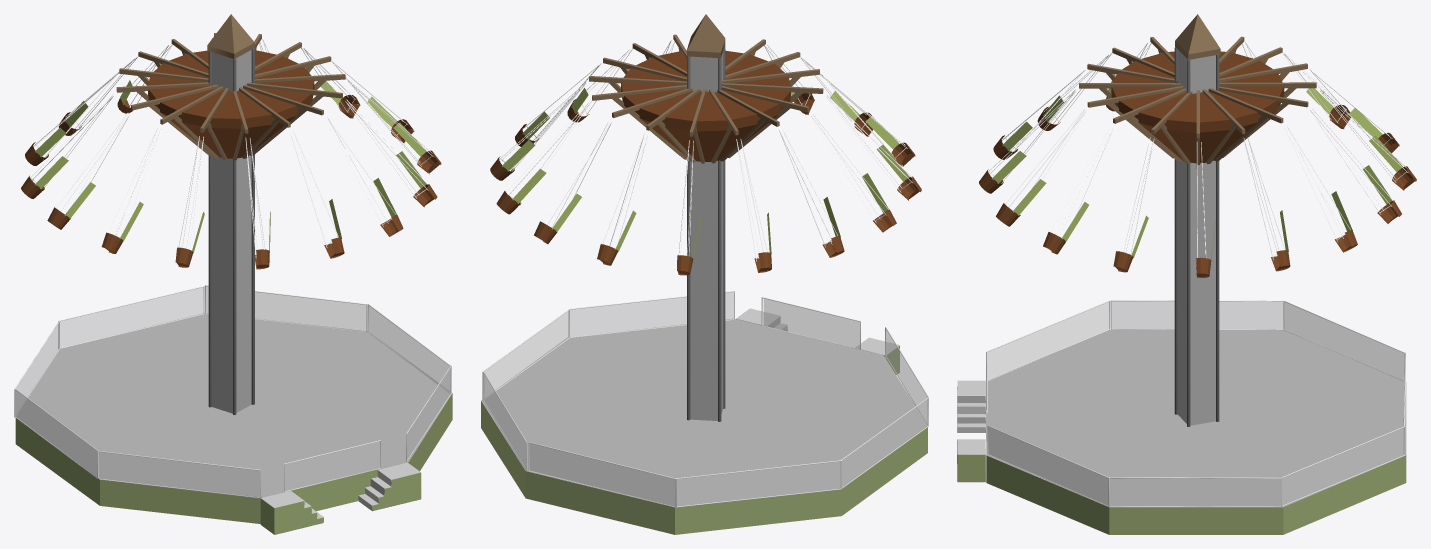
The model's file is chain.glb.
3 renders of one model, left to right at view 1: azimuth 30°, elevation 25°; view 2: azimuth 150°, elevation 25°; view 3: azimuth 270°, elevation 25°, orthographic. The views are drawn at different scales.
Visible parts, largest first — view 1: ASSEMBLY_STATIC, ASSEMBLY_ROTATING_CANOPY; view 2: ASSEMBLY_STATIC, ASSEMBLY_ROTATING_CANOPY; view 3: ASSEMBLY_STATIC, ASSEMBLY_ROTATING_CANOPY.
Part boxes in pixels (box(x1,y1,x2,y2)): ASSEMBLY_STATIC: box(14, 48, 452, 534); ASSEMBLY_ROTATING_CANOPY: box(21, 14, 441, 269); ASSEMBLY_STATIC: box(481, 45, 928, 534); ASSEMBLY_ROTATING_CANOPY: box(490, 14, 921, 275); ASSEMBLY_STATIC: box(957, 47, 1406, 534); ASSEMBLY_ROTATING_CANOPY: box(979, 14, 1416, 277).
Size of the model in its own units: 13.8 by 15.13 by 14.48.
13 materials, 3 textured.
